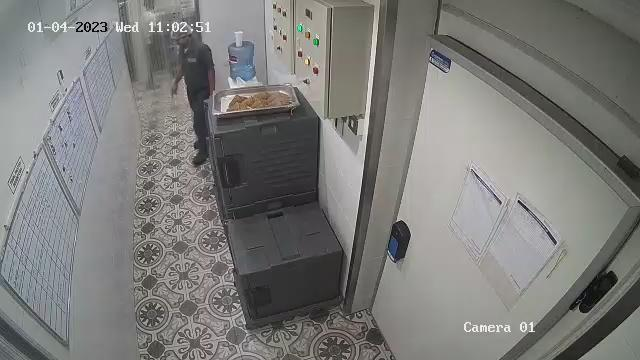no_apron: (177, 41, 206, 113)
